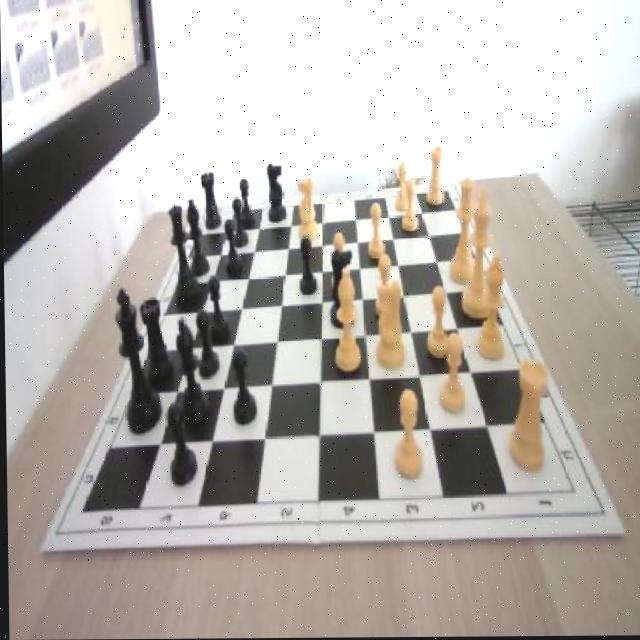bishop: (175, 313, 211, 430), (186, 197, 208, 279)
black-bishop: (114, 290, 160, 435)
black-king: (328, 247, 353, 328), (262, 163, 284, 224)
black-knight: (166, 402, 196, 486), (229, 348, 255, 425), (195, 310, 220, 379), (207, 274, 228, 342), (297, 235, 316, 296), (222, 219, 241, 276), (237, 179, 253, 229), (233, 197, 248, 250)
black-pawn: (167, 204, 201, 309)
black-queen: (140, 296, 172, 384), (200, 173, 219, 230)
black-rook: (472, 255, 510, 361), (333, 273, 361, 374)
white-bishop: (459, 189, 499, 322)
white-king: (370, 271, 410, 373), (295, 177, 318, 242)
white-knight: (391, 390, 424, 480), (436, 331, 468, 416), (424, 285, 452, 362), (373, 255, 398, 323), (329, 235, 349, 294), (366, 204, 386, 261), (393, 162, 412, 212), (400, 181, 418, 231)
white-pawn: (447, 179, 481, 285)
white-queen: (507, 360, 549, 473), (425, 147, 444, 209)
